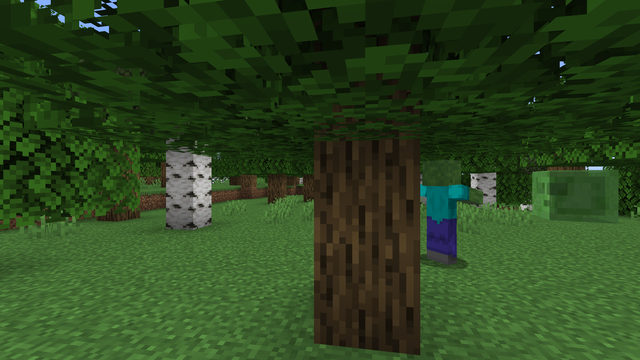slimes: (527, 167, 623, 222)
zombies: (422, 162, 462, 266)
